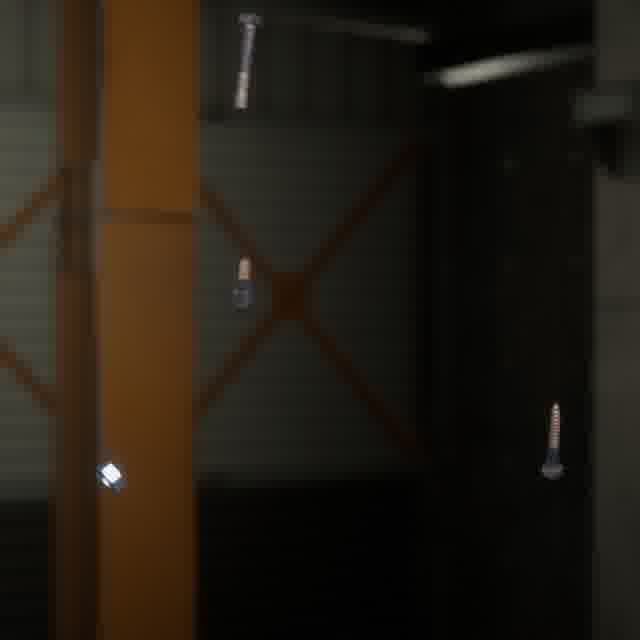bolt: (229, 9, 267, 116), (537, 398, 567, 483), (224, 254, 259, 314)
nut: (91, 456, 130, 497)
